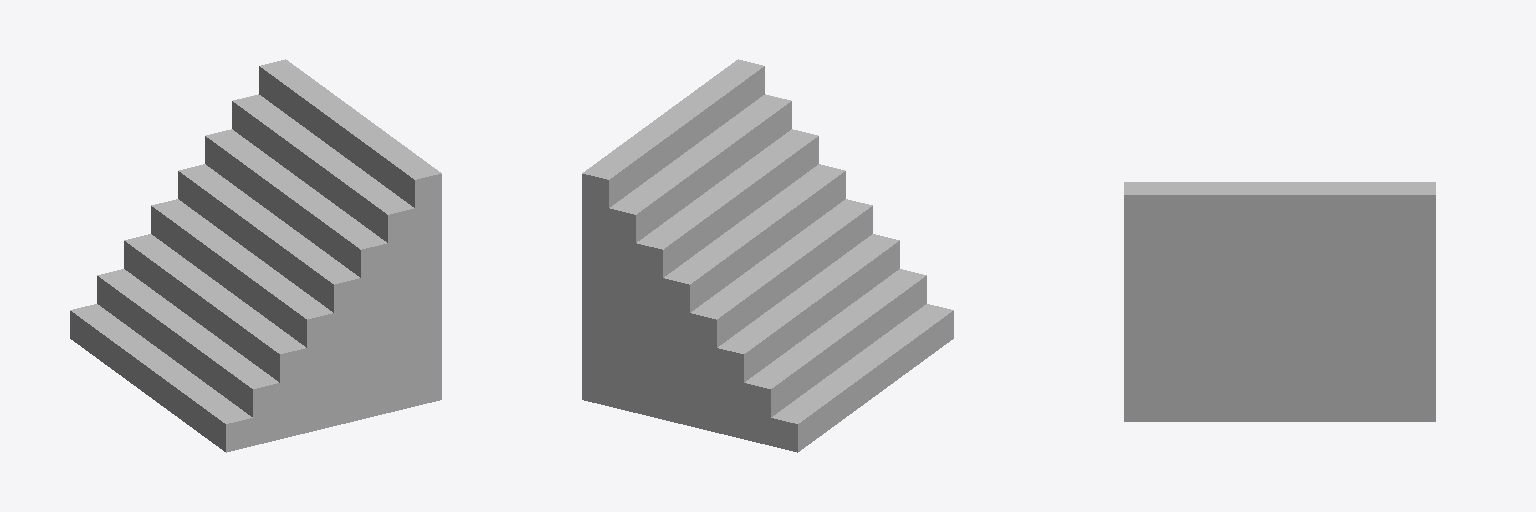
The model's file is goodlymodeledstairs.obj.
3 renders of one model, left to right at view 1: azimuth 30°, elevation 25°; view 2: azimuth 150°, elevation 25°; view 3: azimuth 270°, elevation 25°, orthographic.
Parts seen in each view (by area): view 1: Cube; view 2: Cube; view 3: Cube.
Boxes of the visible parts, box(x1,y1,x2,y2) form: Cube: box(70, 59, 441, 452); Cube: box(582, 59, 953, 452); Cube: box(1124, 182, 1435, 421).
Bounding box in the file's own units: 1.6 × 1.6 × 2.